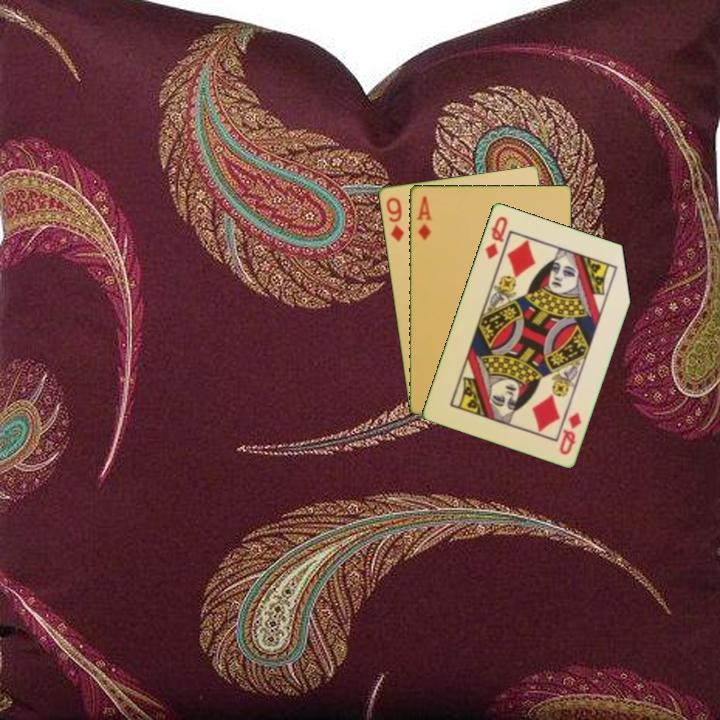9d: (382, 193, 406, 244)
Ad: (412, 192, 434, 242)
Qd: (481, 212, 510, 262), (555, 408, 584, 457)
